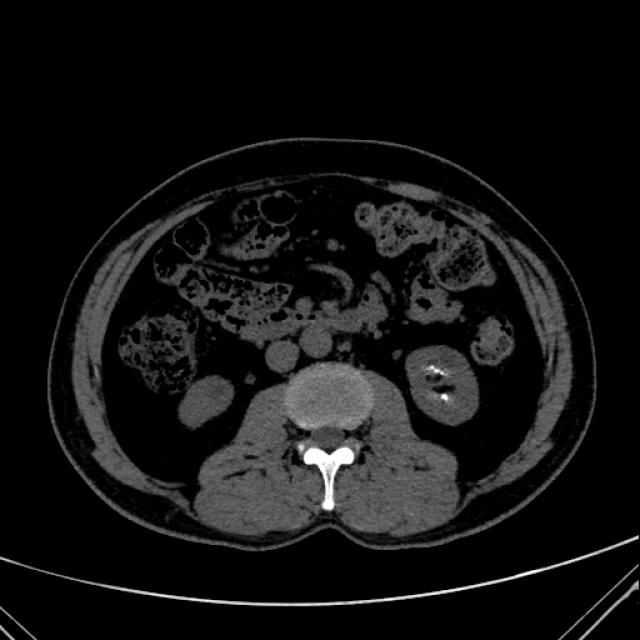kidneystone: (440, 394, 449, 402)
